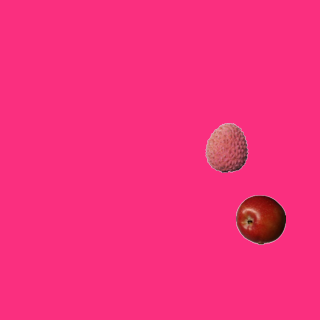Apple Braeburn: (235, 194, 285, 244)
Lychee: (201, 122, 251, 172)
